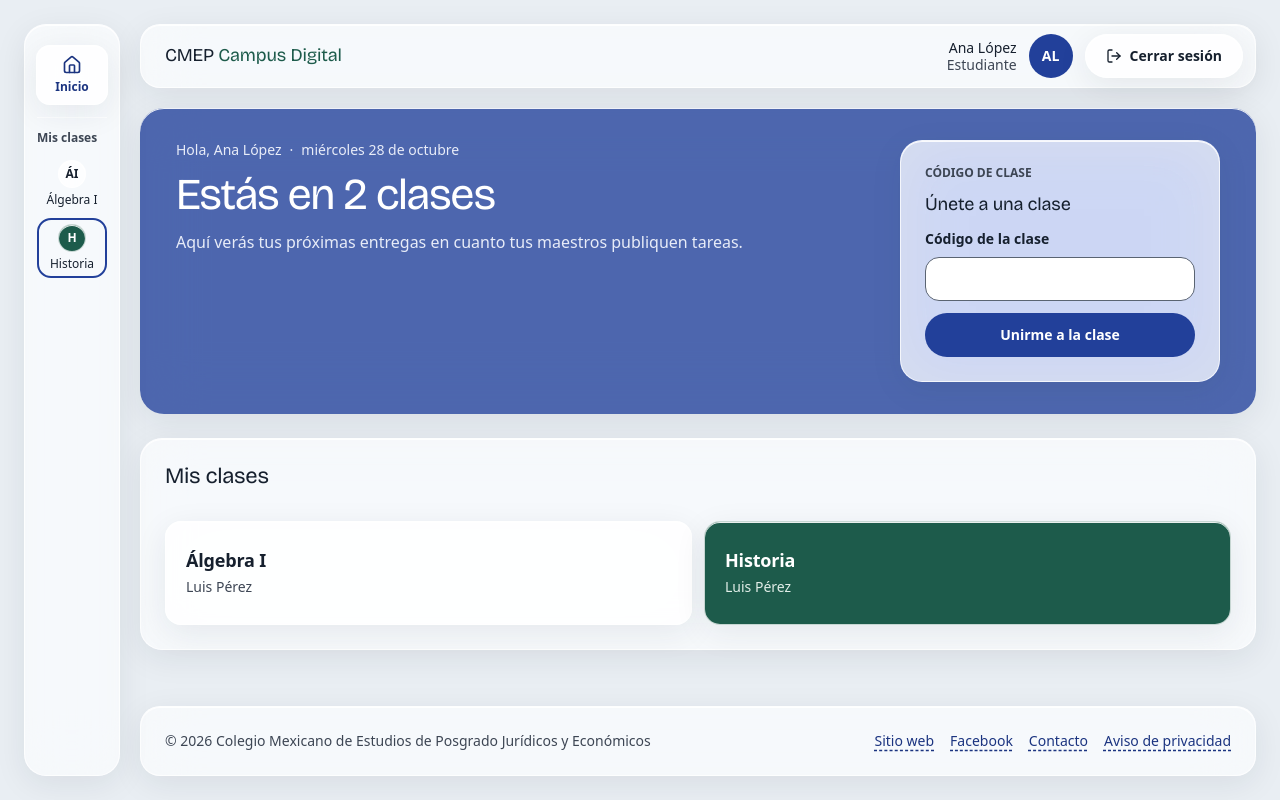
it: ataque CLASES-02d r2: T-07 y sus estados vecinos › cambio de cuenta con el foco en la lista: la cuenta nueva no recibe el foco en su lista al llegar
// La sesión se cierra desde la barra superior: el marco se desmonta con la navegación.
Click the button "Cerrar sesión": (1164, 56) x1=1085 y1=34 x2=1243 y2=78
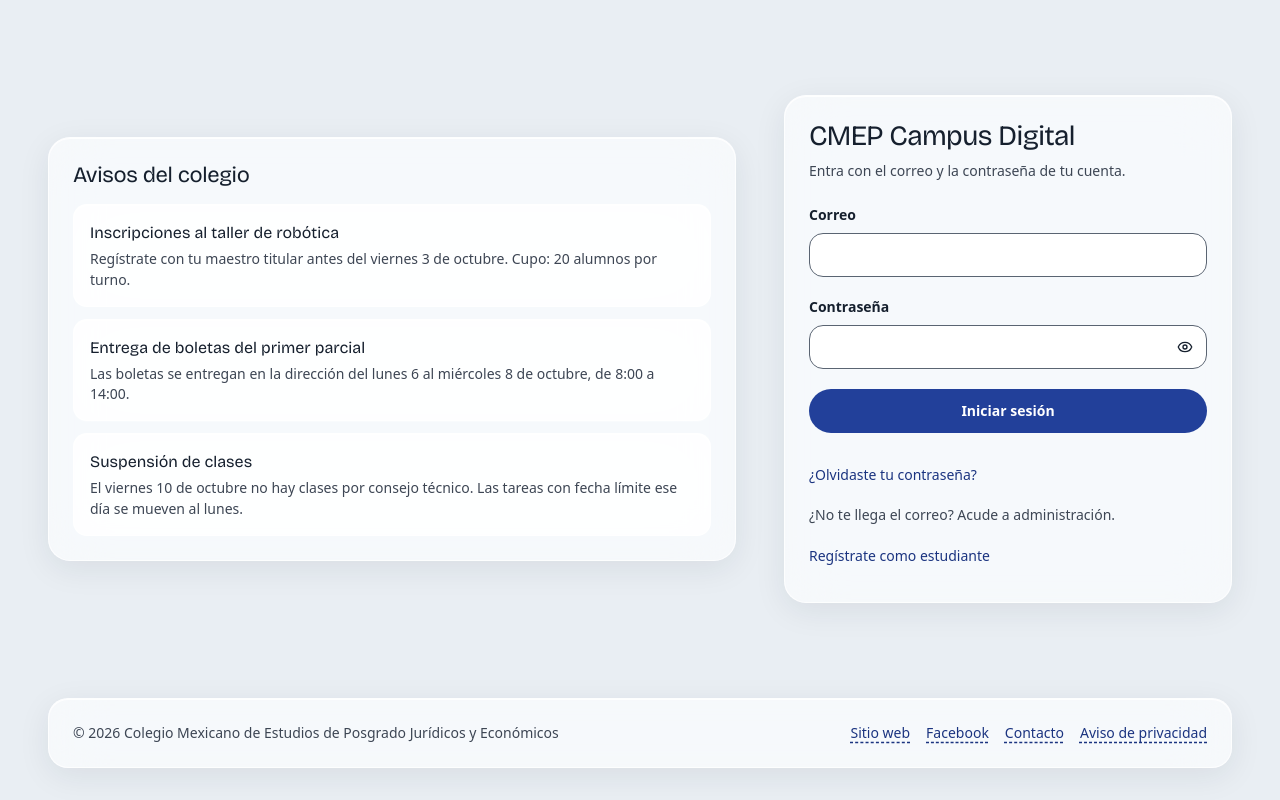
In the field labelled "Correo": (1008, 255) x1=809 y1=233 x2=1207 y2=277, type "beto@ejemplo.mx"
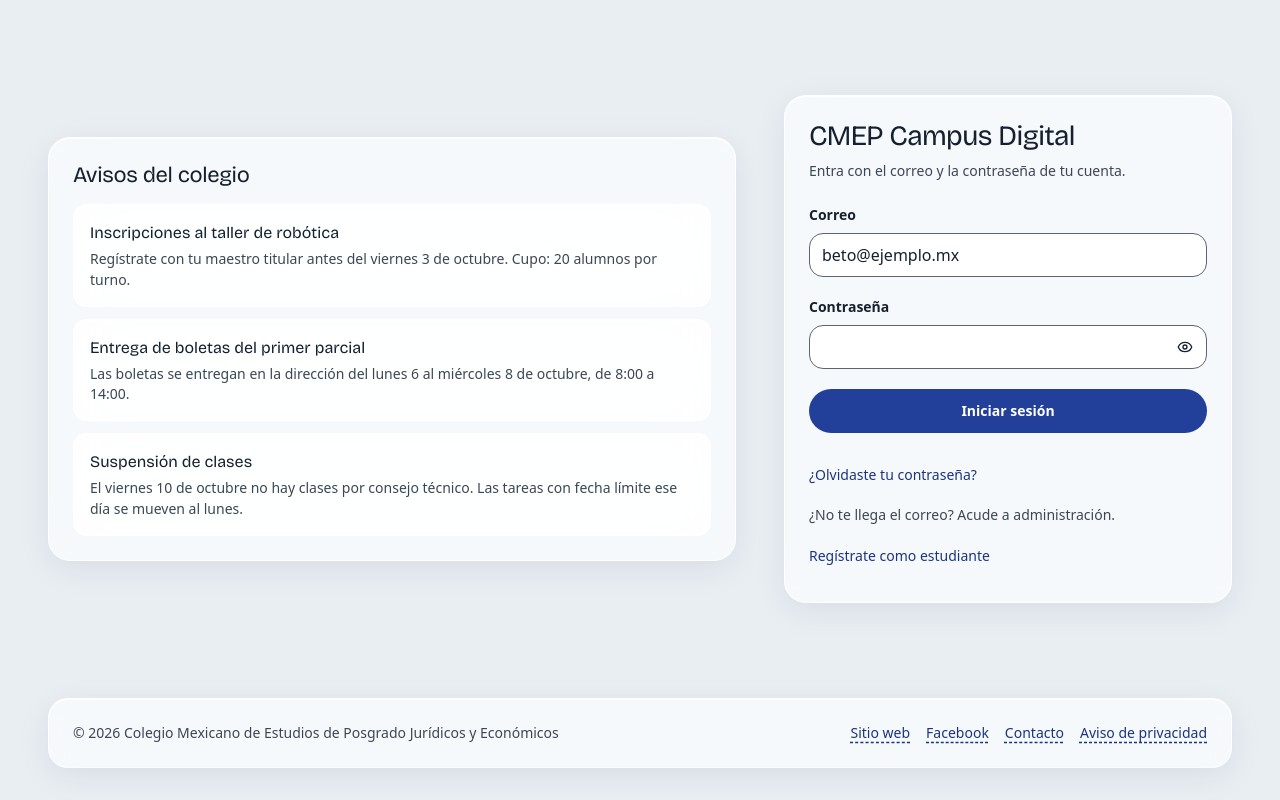
In the password field labelled "Contraseña": (1008, 347) x1=809 y1=325 x2=1207 y2=369, type "clave-de-beto"
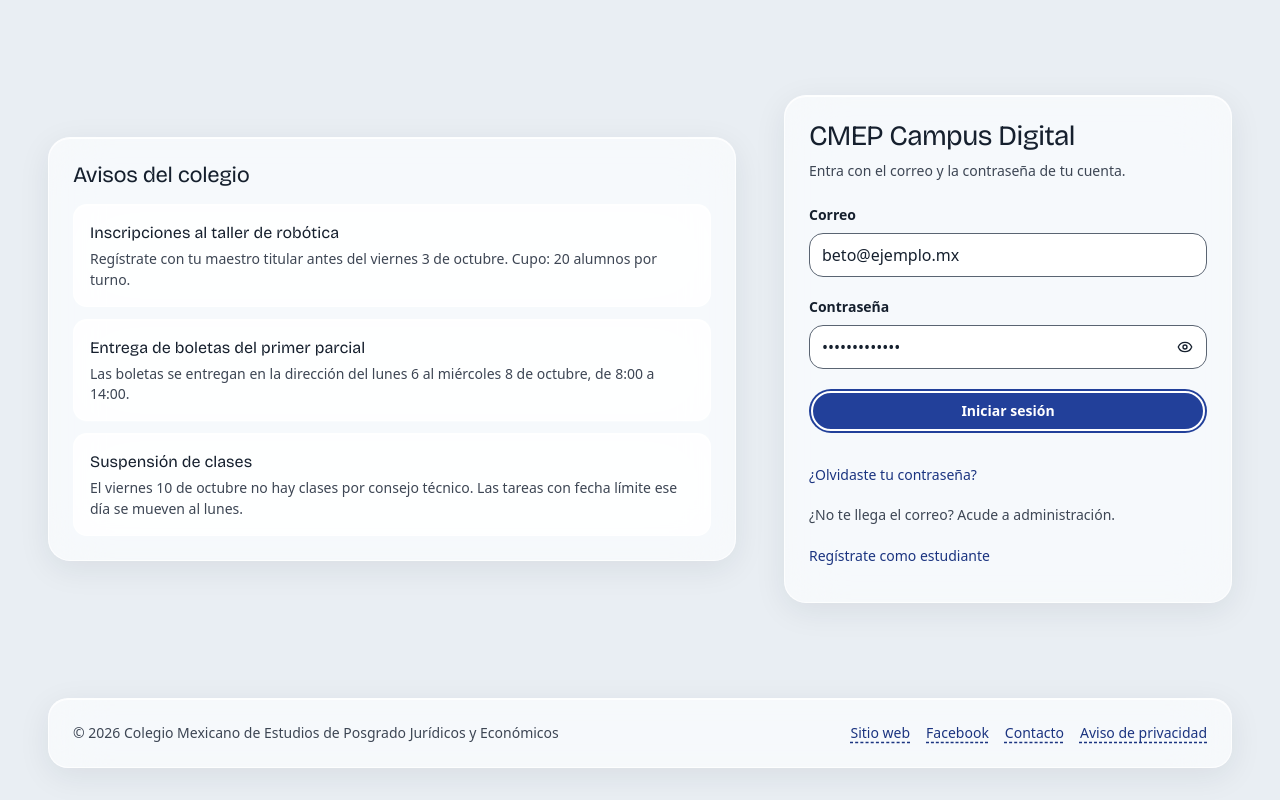
Click the button "Iniciar sesión": (1008, 411) x1=809 y1=389 x2=1207 y2=433
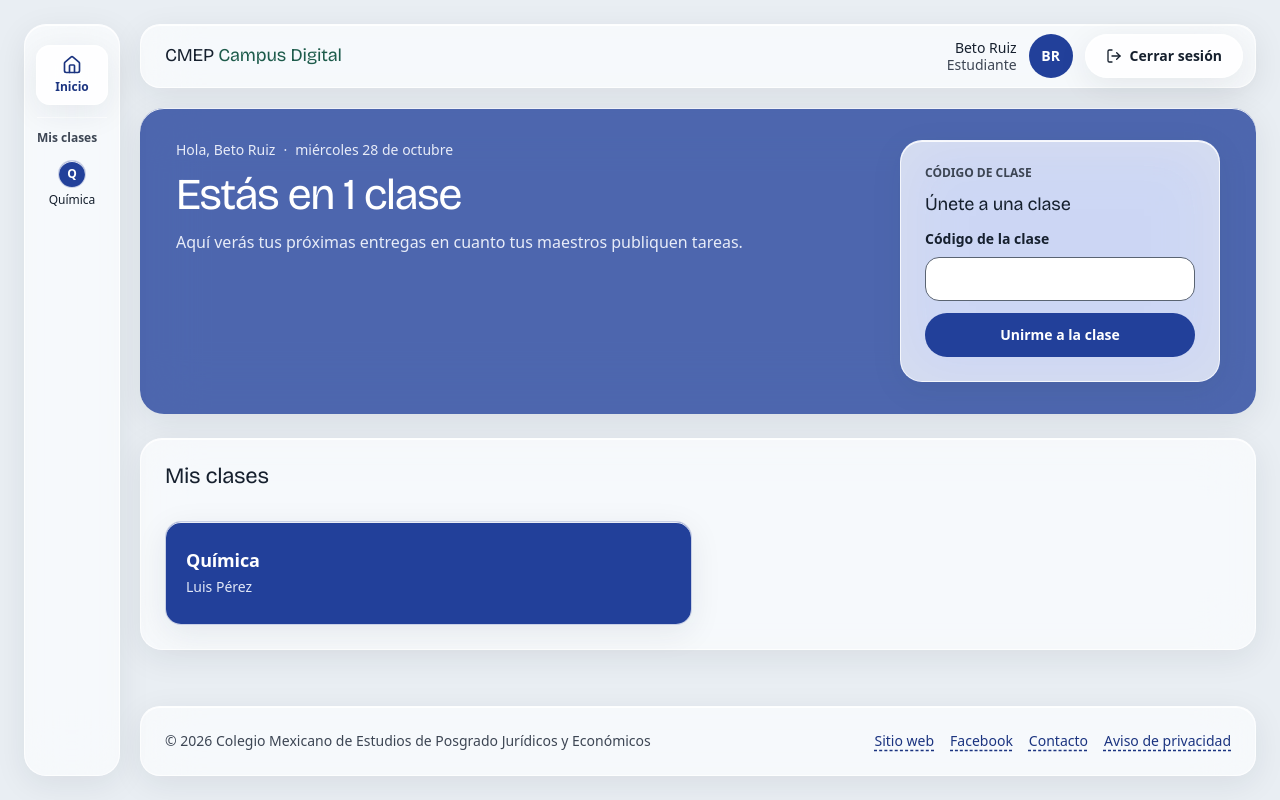
Expected: the text "Hola, Beto Ruiz" is shown, x1=176 y1=140 x2=275 y2=160
Expected: the link "Q Química" is shown, x1=49 y1=160 x2=95 y2=208
